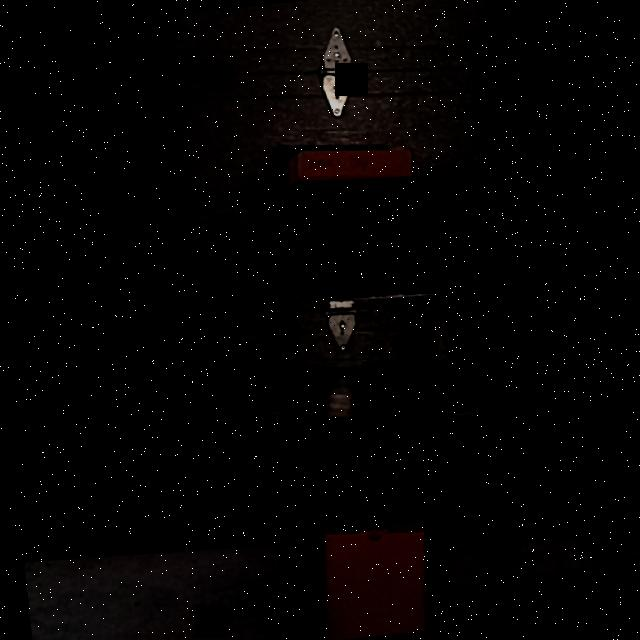box: (323, 522, 430, 640), (296, 146, 413, 183)
